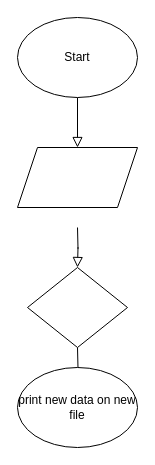
This 155x465 diagram has some shape labels left out. Here are the shapes that lost their labels. From the top down, the centre of each, then its label:
At point (77, 177): "input file name".
At point (77, 307): "if file == 'values'".
